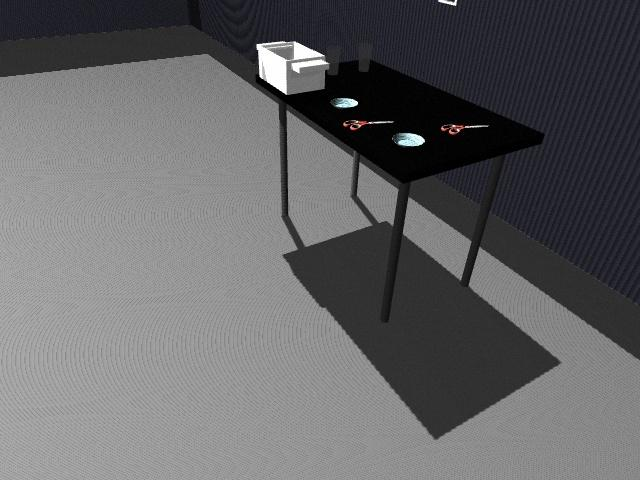cup: (357, 41, 374, 71), (326, 45, 342, 76)
plate: (392, 133, 425, 147), (329, 97, 360, 109)
scissors: (340, 115, 396, 129), (442, 124, 487, 135)
